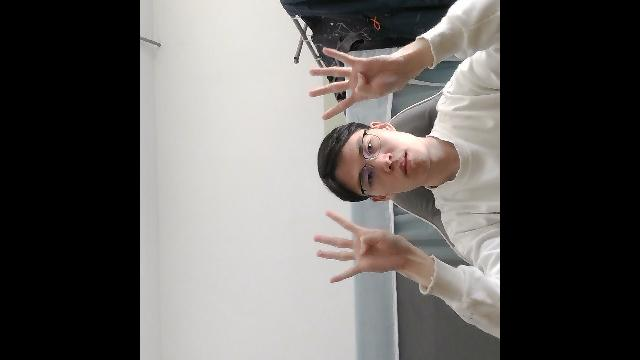four: (310, 210, 417, 285), (305, 44, 410, 118)
